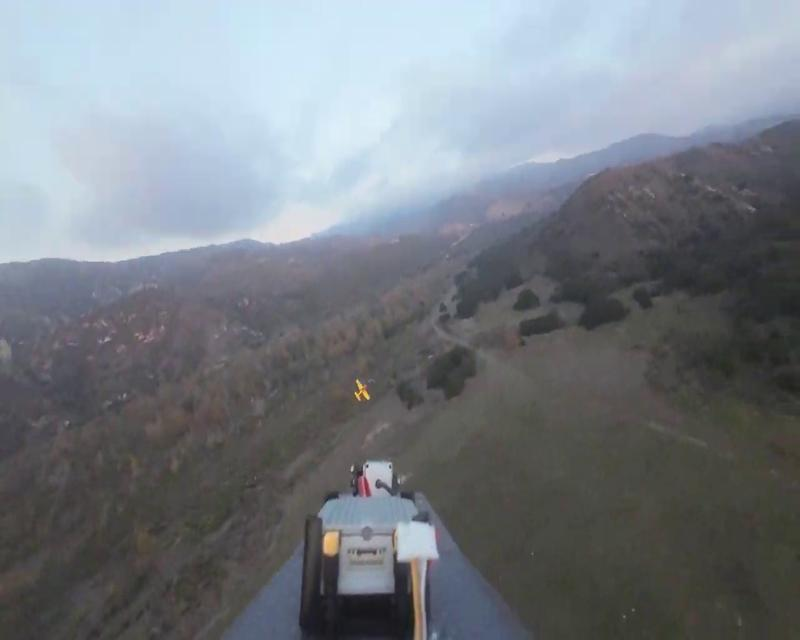UAV: (355, 378, 371, 402)
